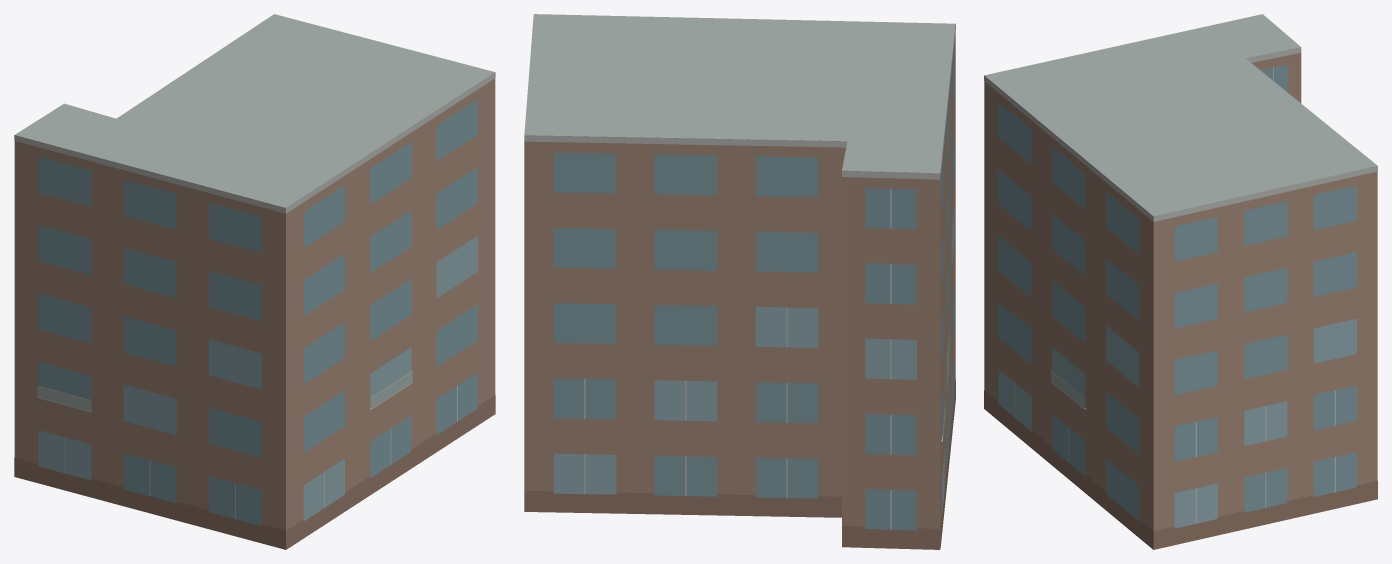
File: survey-upis-32513448.glb
3 views of the same model, side by side, from view 1: azimuth 30°, elevation 25°; view 2: azimuth 150°, elevation 25°; view 3: azimuth 270°, elevation 25° (orthographic). The views are drawn at different scales.
Visible parts, largest first — view 1: survey-upis-32513448.tmp; view 2: survey-upis-32513448.tmp; view 3: survey-upis-32513448.tmp.
Part boxes in pixels (left/top/right/bottom): survey-upis-32513448.tmp: left=14, top=14, right=495, bottom=549; survey-upis-32513448.tmp: left=524, top=14, right=955, bottom=549; survey-upis-32513448.tmp: left=984, top=14, right=1377, bottom=549.
Size of the model in its own units: 18.88 by 14.5 by 15.52.
